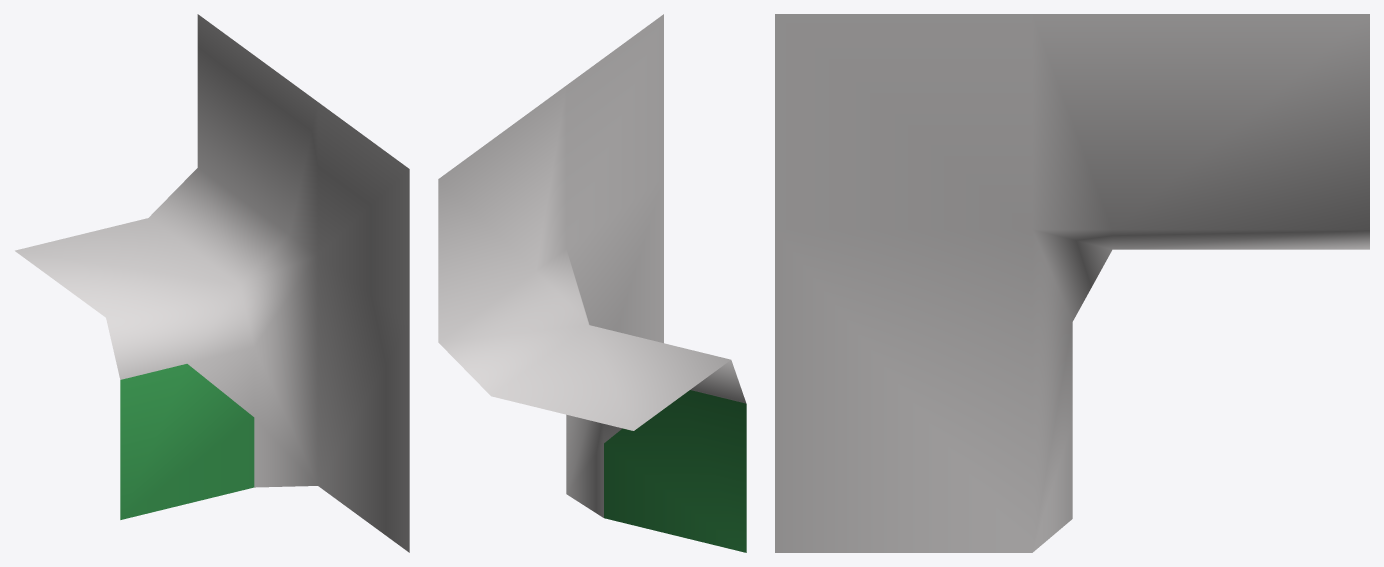
The model's file is CliffEdge_ToStem.fbx.
3 views of the same model, side by side, from view 1: azimuth 30°, elevation 25°; view 2: azimuth 150°, elevation 25°; view 3: azimuth 270°, elevation 25° (orthographic). The views are drawn at different scales.
Visible parts, largest first — view 1: Cliffedge_Tostem; view 2: Cliffedge_Tostem; view 3: Cliffedge_Tostem.
Boxes of the visible parts, left/top/right/bottom form: Cliffedge_Tostem: left=15, top=14, right=409, bottom=552; Cliffedge_Tostem: left=438, top=14, right=746, bottom=552; Cliffedge_Tostem: left=775, top=14, right=1369, bottom=552.
Size of the model in its own units: 10 by 10 by 5.
